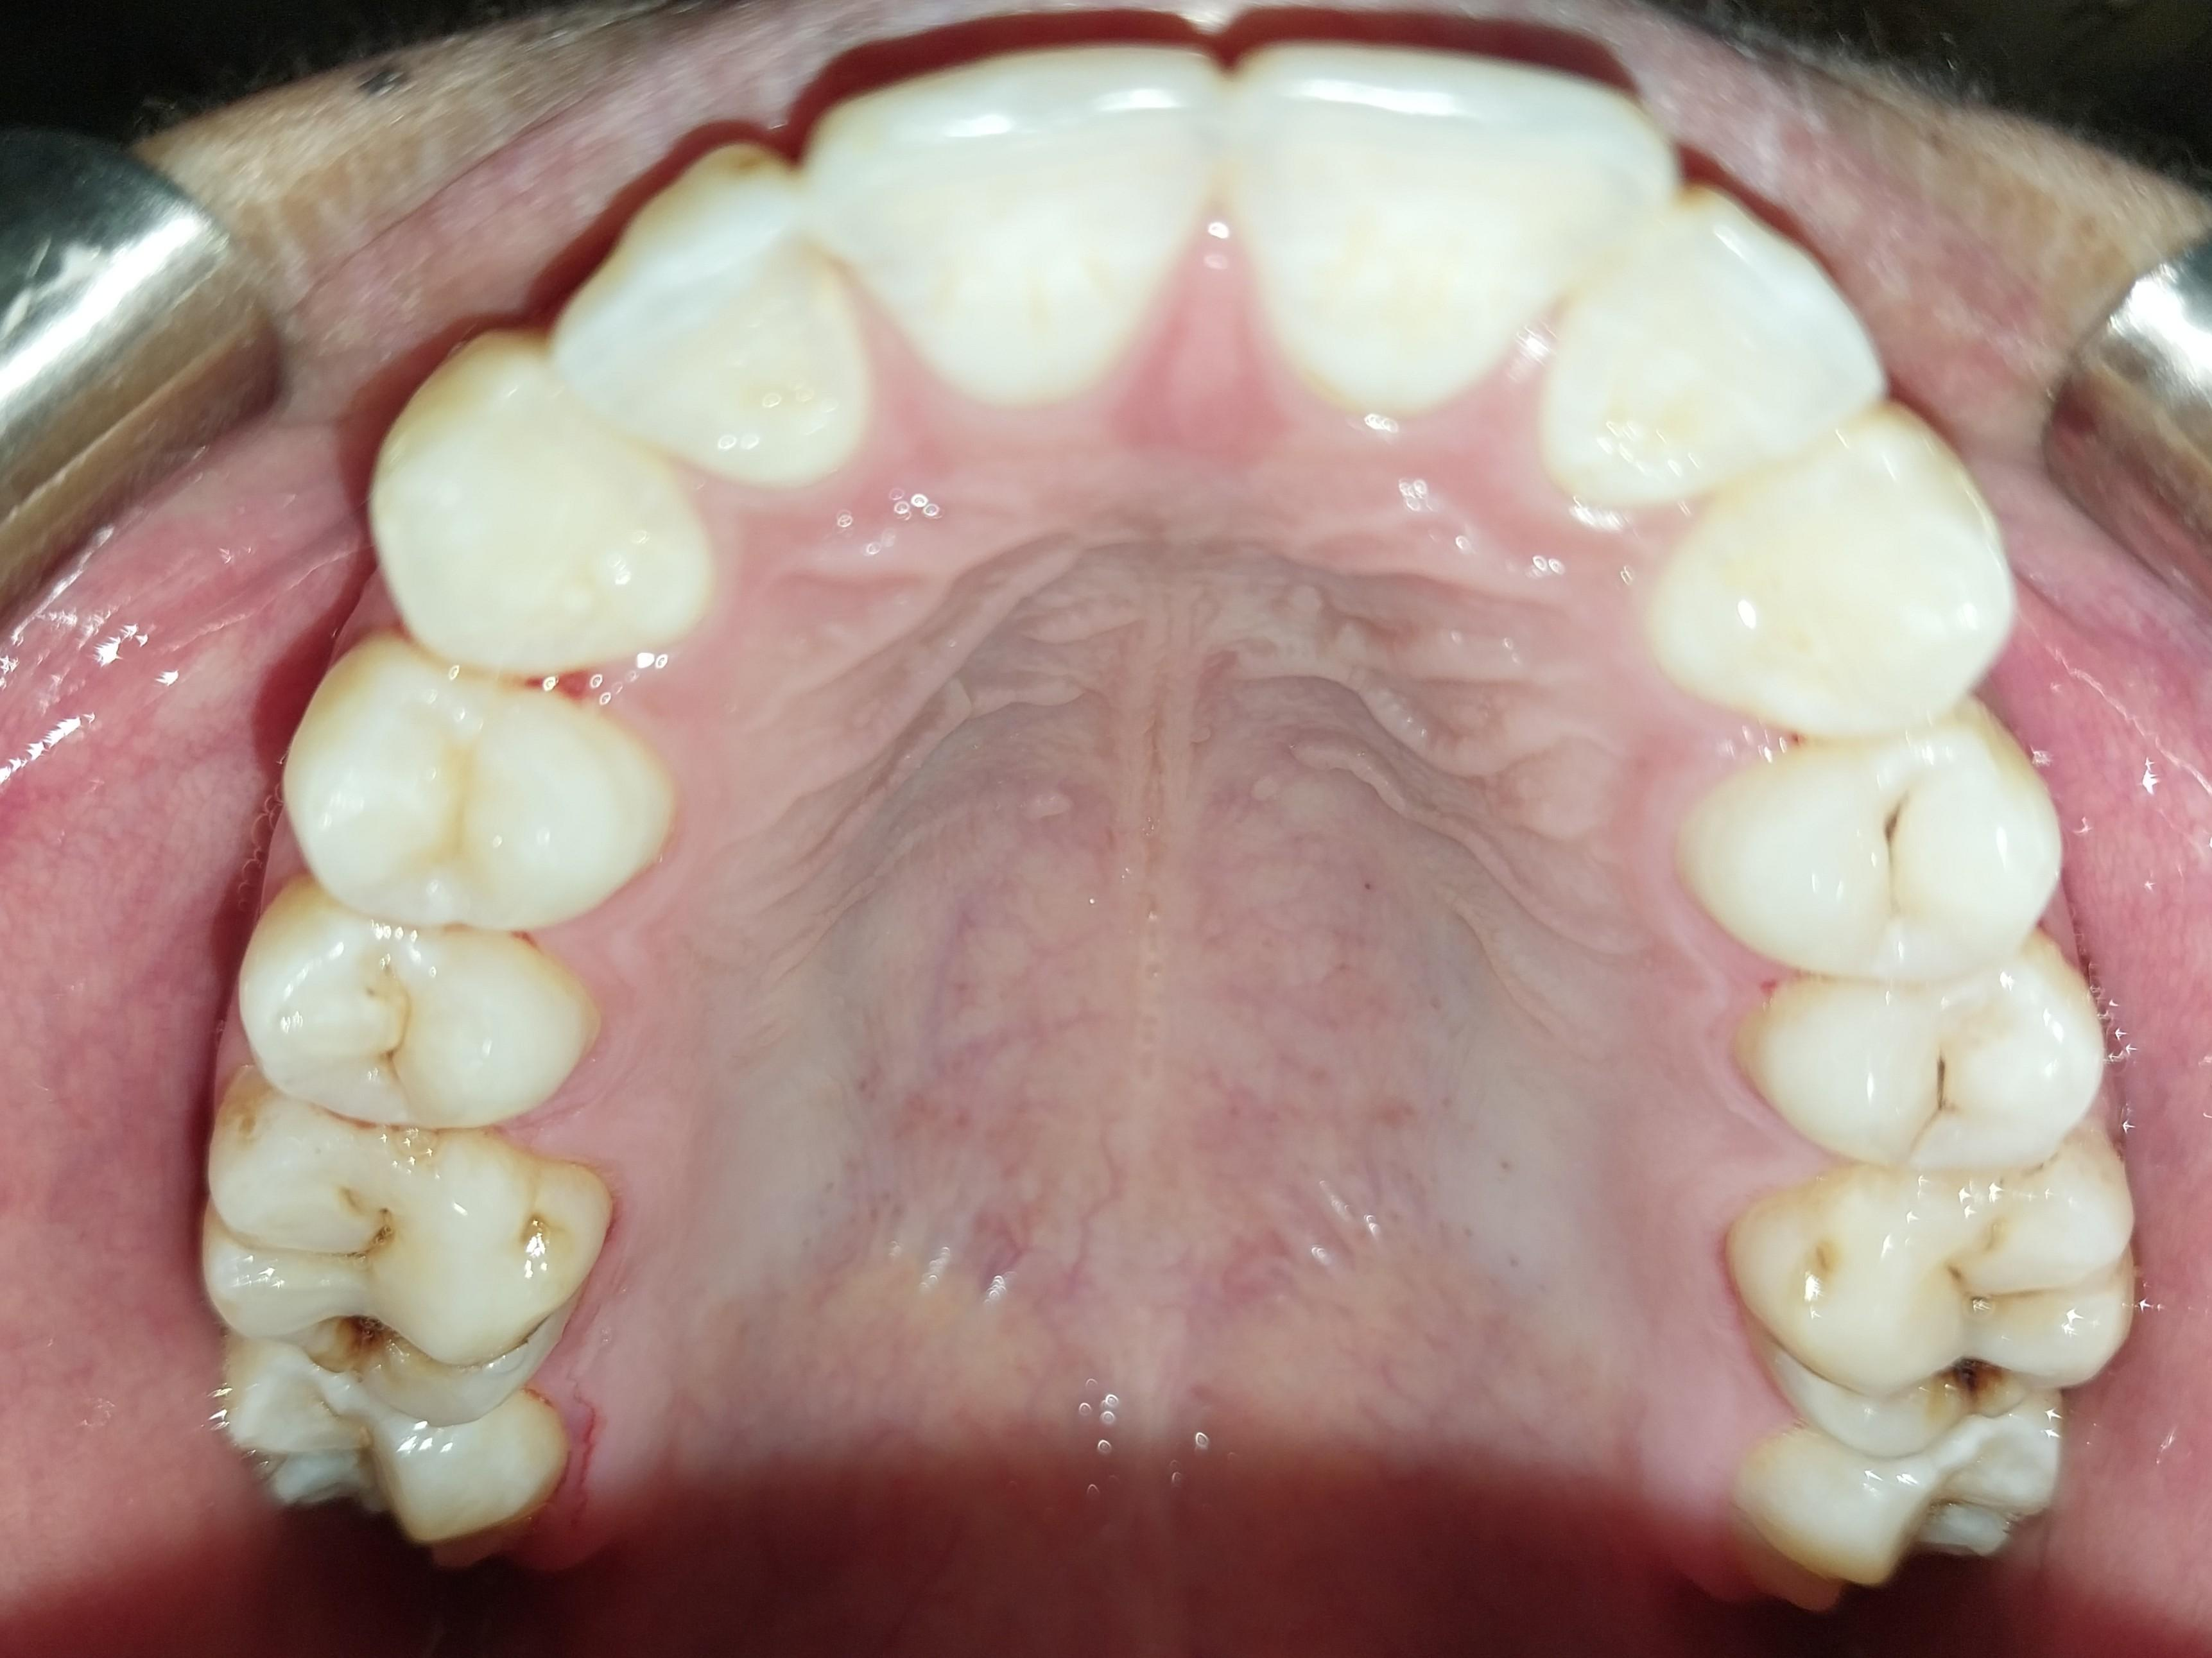D: (201, 1089, 598, 1421), (1739, 1167, 2141, 1462), (1692, 732, 2062, 966), (1748, 957, 2109, 1182)
